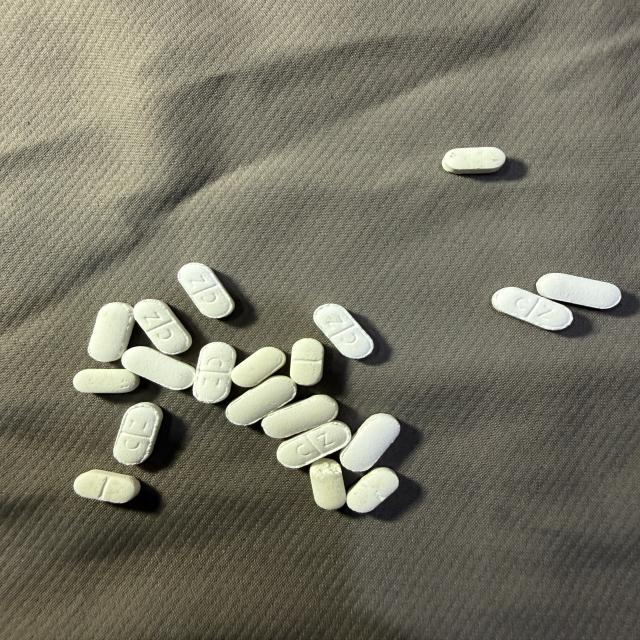pill: (225, 376, 297, 426), (277, 421, 351, 468), (492, 287, 572, 330), (340, 414, 400, 471), (262, 395, 338, 438), (314, 304, 373, 358), (122, 347, 195, 390), (134, 299, 191, 354), (178, 263, 234, 318), (114, 402, 162, 465), (537, 273, 621, 309), (88, 303, 134, 361), (193, 342, 236, 403), (347, 468, 398, 512), (74, 470, 140, 503), (231, 347, 285, 387), (310, 459, 346, 509), (442, 147, 505, 173), (290, 338, 324, 385), (73, 369, 139, 393)
